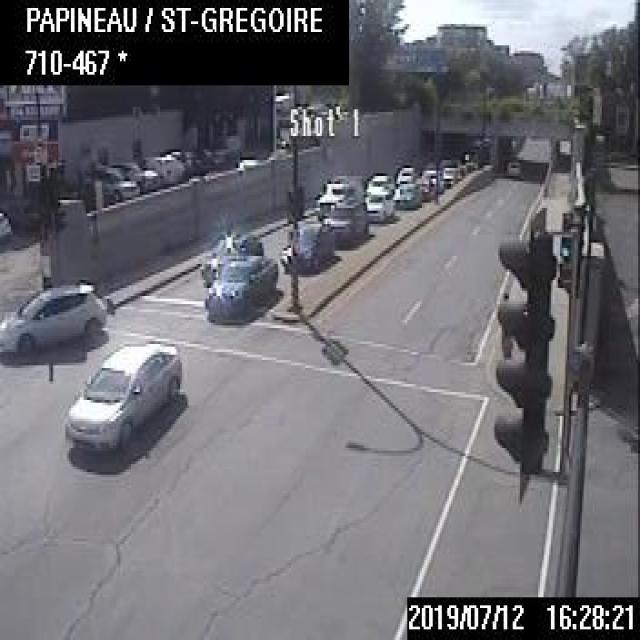vehicle: (65, 336, 182, 451), (0, 283, 102, 357), (202, 252, 276, 322), (198, 226, 262, 276), (281, 220, 335, 274), (323, 194, 367, 246), (80, 162, 139, 199), (110, 160, 157, 192), (316, 177, 350, 219), (140, 155, 176, 186), (366, 186, 393, 221), (392, 180, 419, 206), (418, 167, 442, 192), (366, 172, 391, 194), (412, 175, 433, 200), (394, 163, 414, 185), (505, 155, 522, 176), (442, 165, 454, 185)
